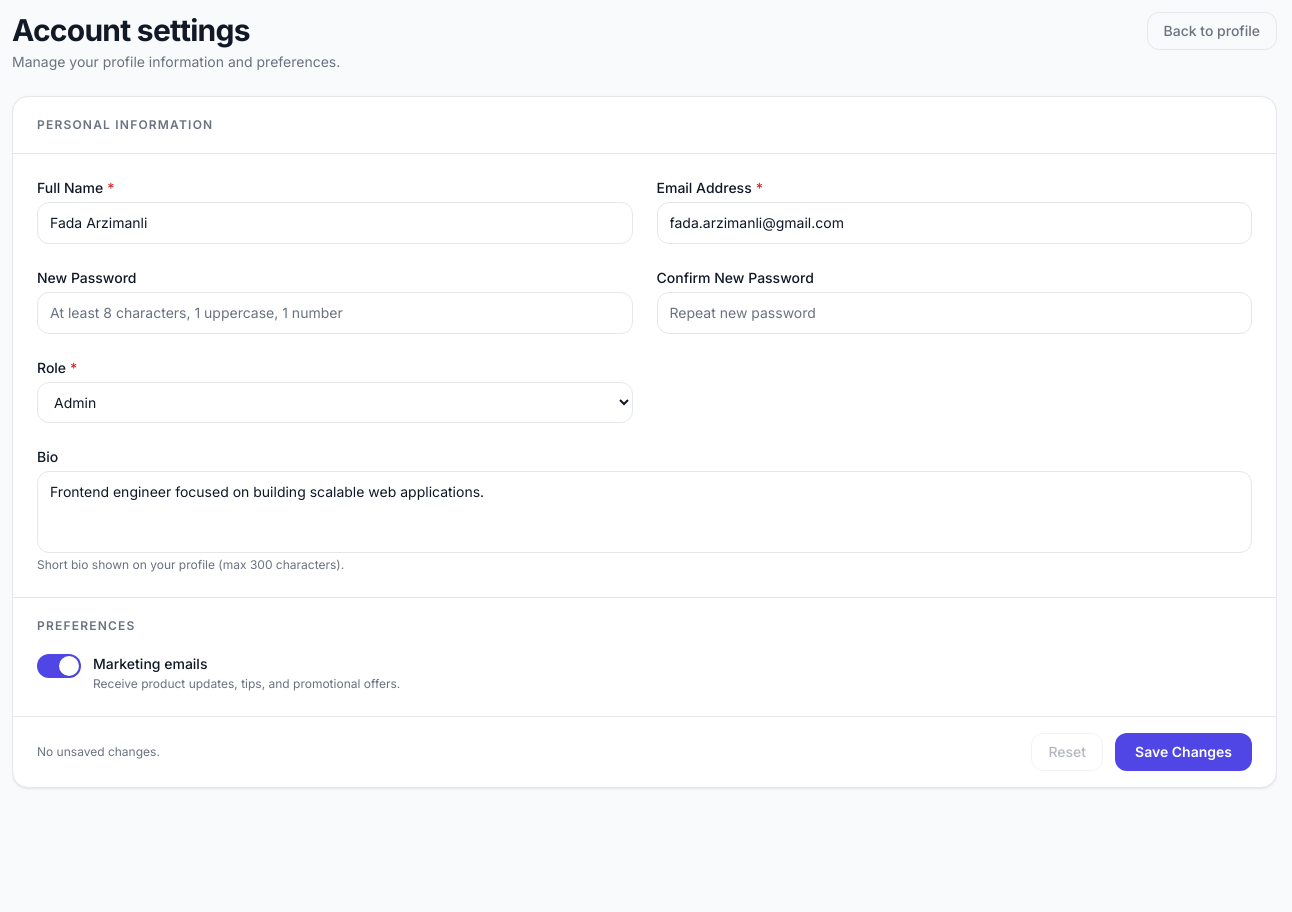
SettingsPage › server validation errors › does not show a success alert when the server returns a validation error
Replace the text in the field labelled "Email Address*" with "taken@example.com" at [954, 223], box [656, 202, 1252, 244]
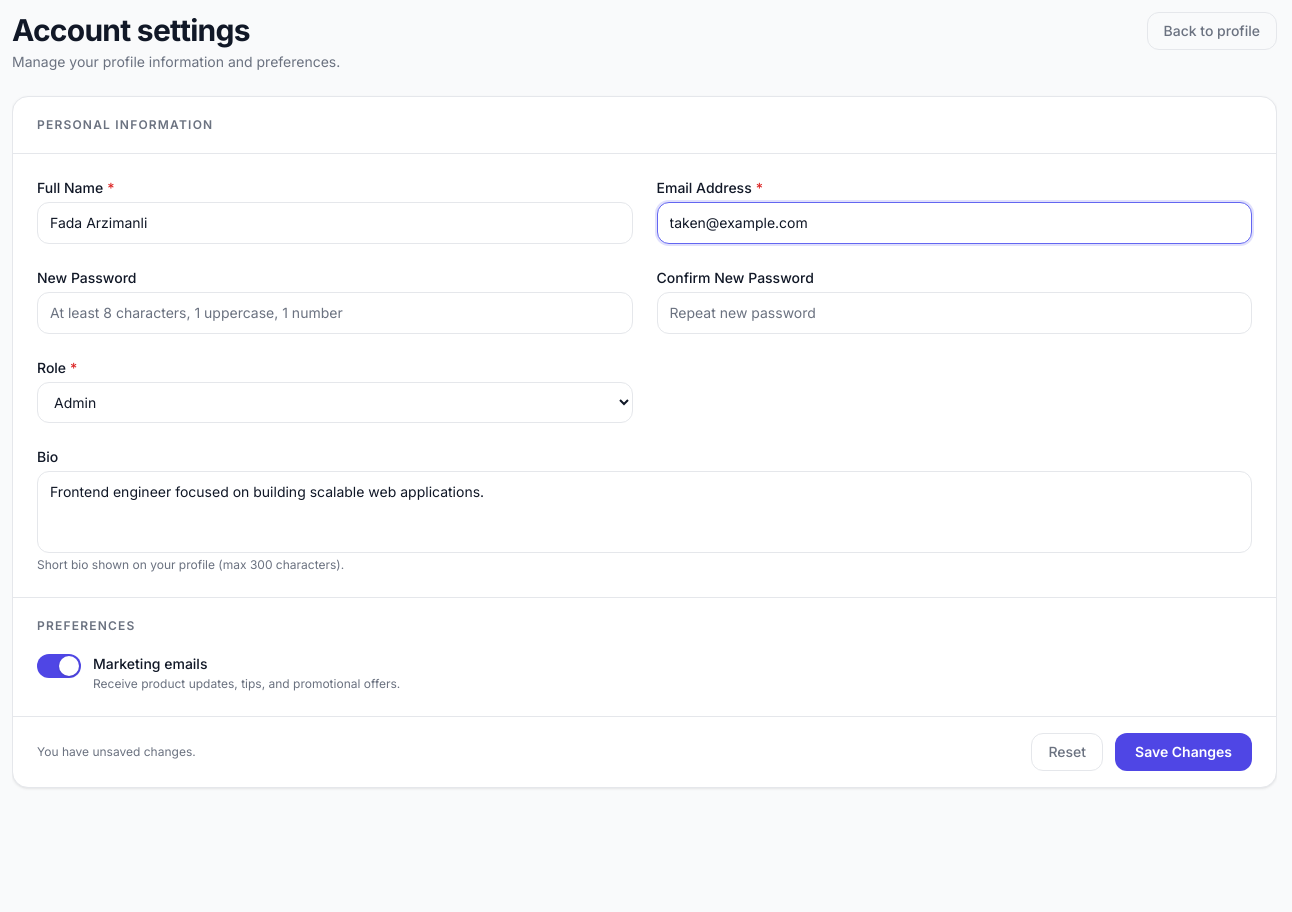
Click the button "Save Changes" at [1184, 752], box [1115, 733, 1252, 771]
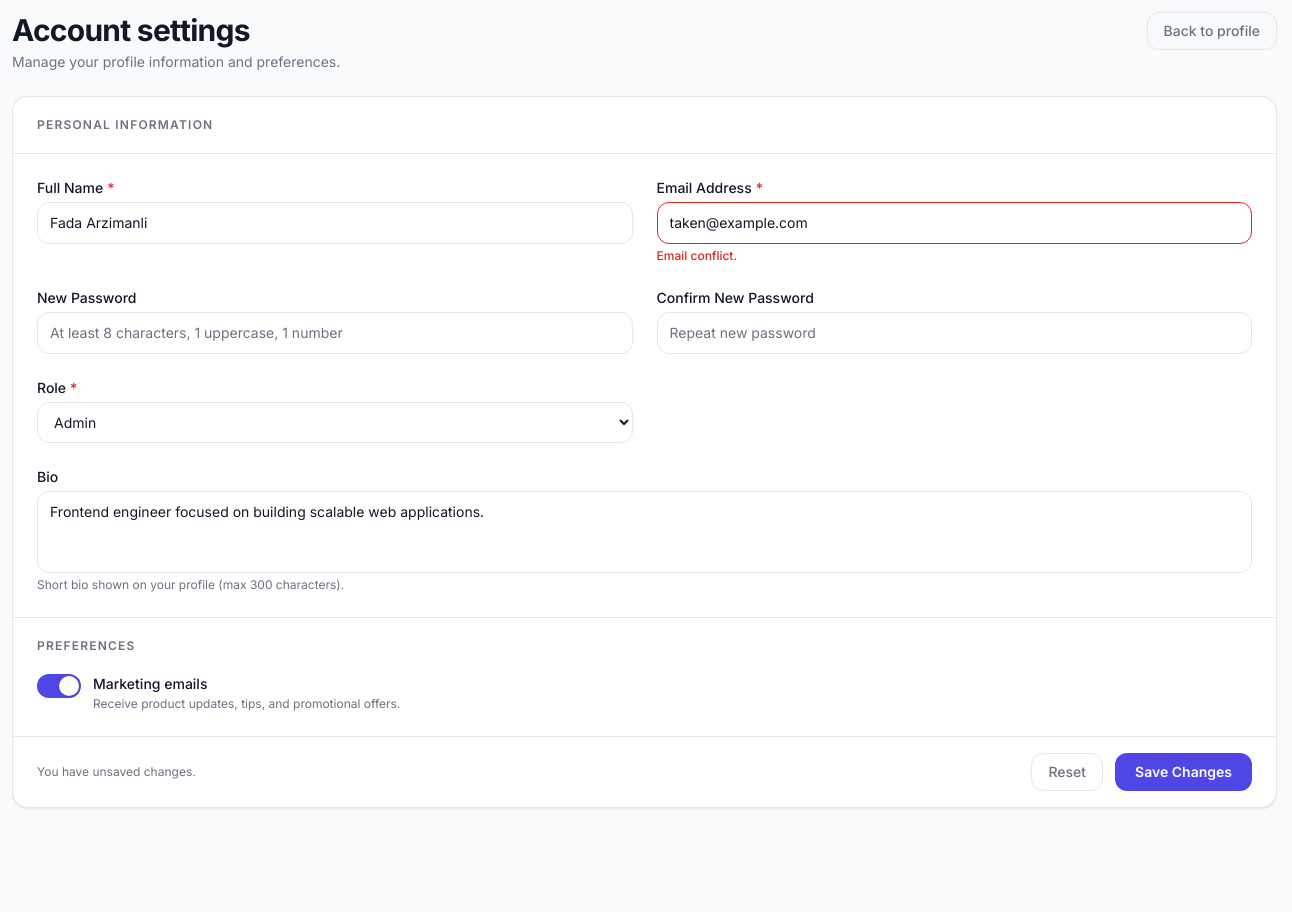
Now the text "Email conflict." is shown, box [656, 248, 737, 263]
